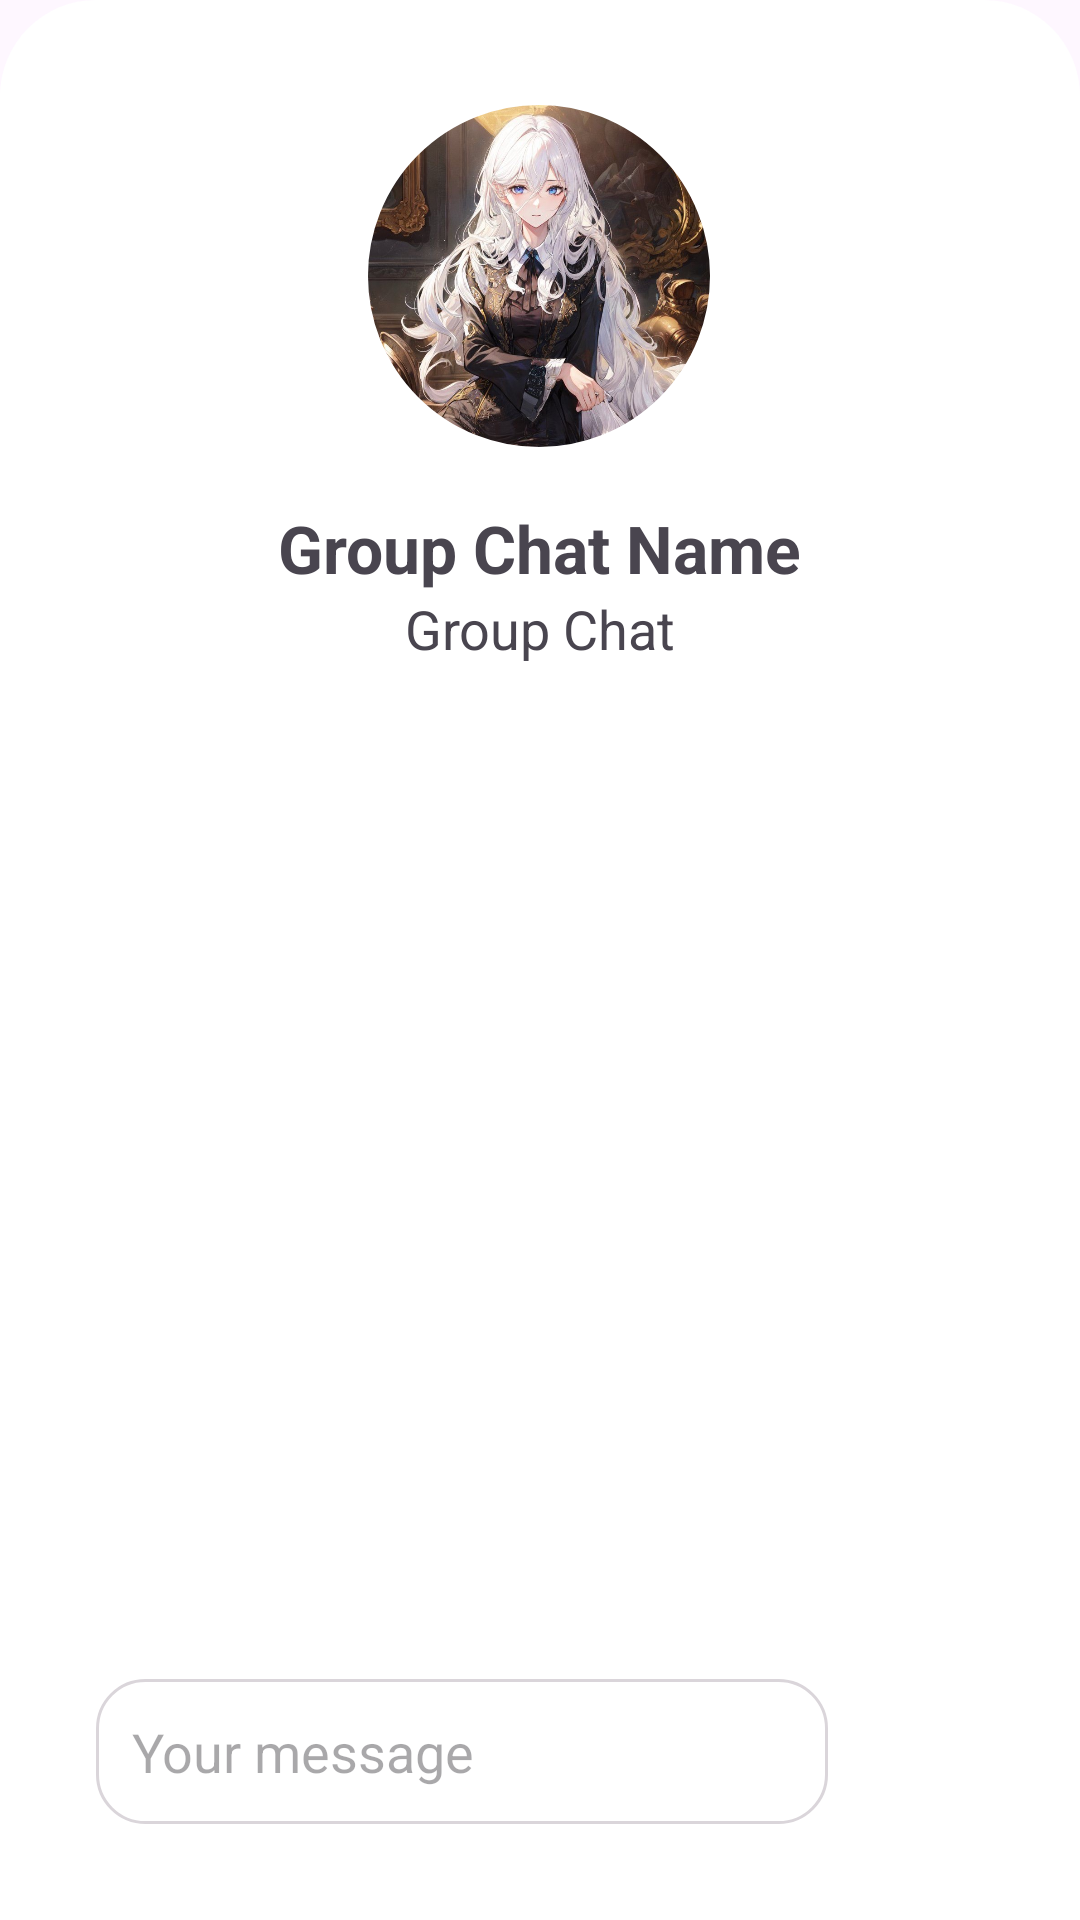

Named icons in this screenshot (1080*1920) and their centers, [x,y]:
animepic: [539,276]
